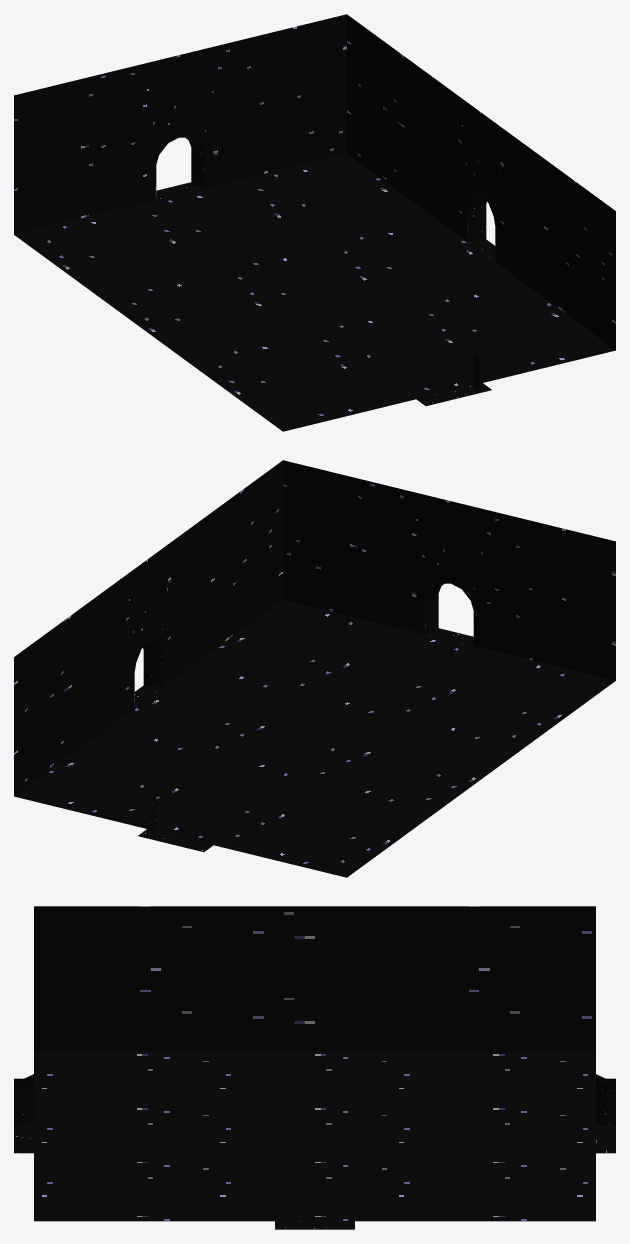
Rendered from Room11.glb.
3 renders of one model, top to bottom at view 1: azimuth 30°, elevation 25°; view 2: azimuth 150°, elevation 25°; view 3: azimuth 270°, elevation 25°, orthographic. The views are drawn at different scales.
Visible parts, largest first — view 1: Room11_Floor_Floor7, Room11_Walls_Wall51, Room11_Walls_Wall42; view 2: Room11_Floor_Floor7, Room11_Doorway4_Half2, Room11_Walls_Wall42; view 3: Room11_Floor_Floor7, Room11_Walls_Wall27, Room11_Doorway4_Half2, Room11_Walls_Wall51.
Part boxes in pixels (<box>): Room11_Floor_Floor7: <box>14,153,615,431</box>; Room11_Walls_Wall51: <box>14,14,346,234</box>; Room11_Walls_Wall42: <box>347,14,615,350</box>; Room11_Floor_Floor7: <box>14,599,615,877</box>; Room11_Doorway4_Half2: <box>283,460,615,680</box>; Room11_Walls_Wall42: <box>14,460,282,796</box>; Room11_Floor_Floor7: <box>14,1051,615,1229</box>; Room11_Walls_Wall27: <box>34,906,595,1051</box>; Room11_Doorway4_Half2: <box>14,1074,33,1125</box>; Room11_Walls_Wall51: <box>596,1074,615,1125</box>.
Bounding box in the file's own units: 10.5 × 4 × 15.
Materials: 6 (6 with a texture image).
